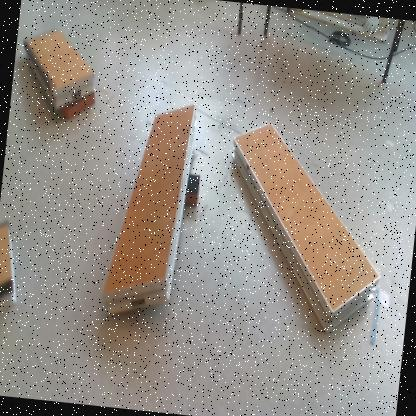Stairs: (231, 122, 379, 334), (104, 105, 198, 317), (24, 29, 96, 112), (1, 222, 16, 314)
